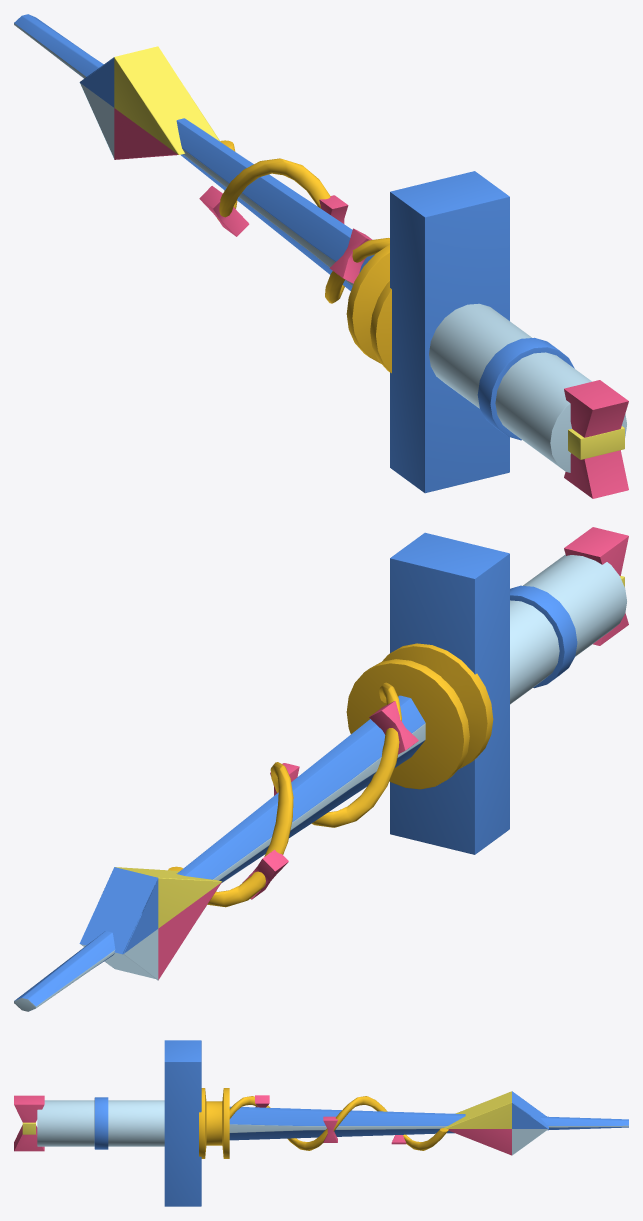
Rendered from Sword_KitestringRapier.glb.
The picture shows the model from 3 angles, top to bottom: view 1: azimuth 30°, elevation 25°; view 2: azimuth 150°, elevation 25°; view 3: azimuth 270°, elevation 25°; orthographic projection. The views are drawn at different scales.
Parts seen in each view (by area): view 1: Sword_KitestringRapier; view 2: Sword_KitestringRapier; view 3: Sword_KitestringRapier.
Boxes of the visible parts, bbox=[...] form: Sword_KitestringRapier: bbox=[14, 14, 628, 498]; Sword_KitestringRapier: bbox=[14, 527, 628, 1011]; Sword_KitestringRapier: bbox=[14, 1040, 628, 1206].
Size of the model in its own units: 0.116 by 0.26 by 1.
Materials: 1 (1 with a texture image).
